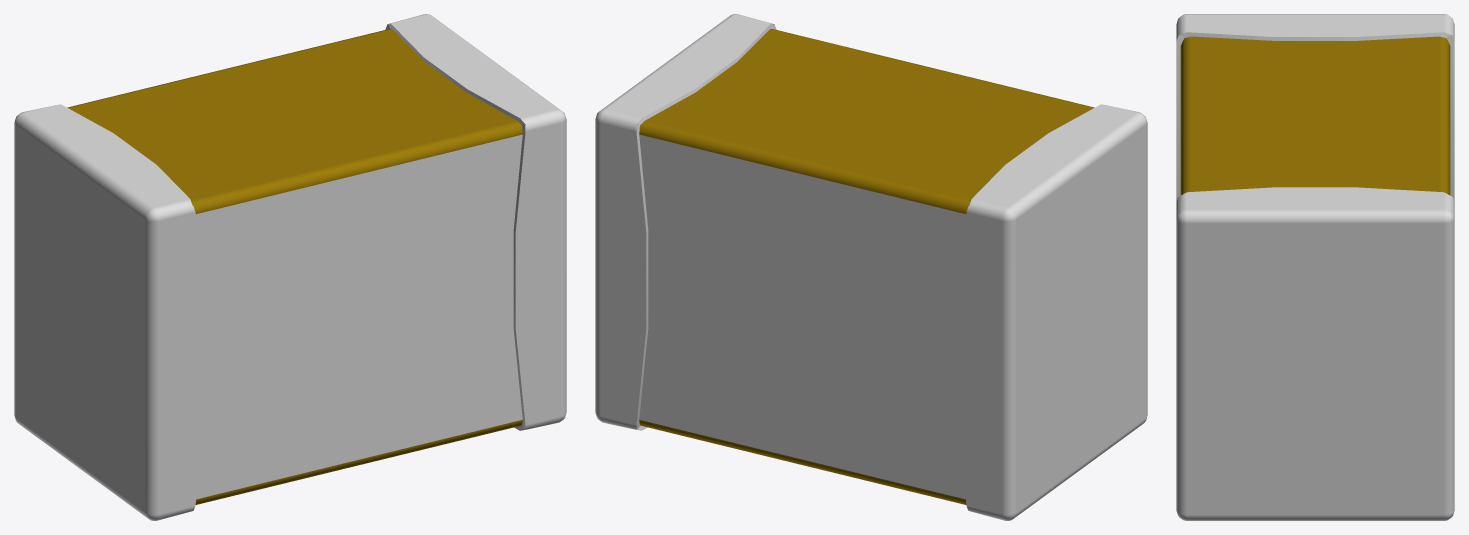
Rendered from PSA_FS43X226K500ERG.3dmodel.glb.
3 renders of one model, left to right at view 1: azimuth 30°, elevation 25°; view 2: azimuth 150°, elevation 25°; view 3: azimuth 270°, elevation 25°, orthographic.
Visible parts, largest first — view 1: =>[0:1:1:1]; view 2: =>[0:1:1:1]; view 3: =>[0:1:1:1].
Part boxes in pixels (bbox=[...]): =>[0:1:1:1]: bbox=[14, 14, 566, 520]; =>[0:1:1:1]: bbox=[595, 14, 1147, 520]; =>[0:1:1:1]: bbox=[1176, 14, 1454, 520].
Size of the model in its own units: 4.5 by 3.2 by 2.6.
